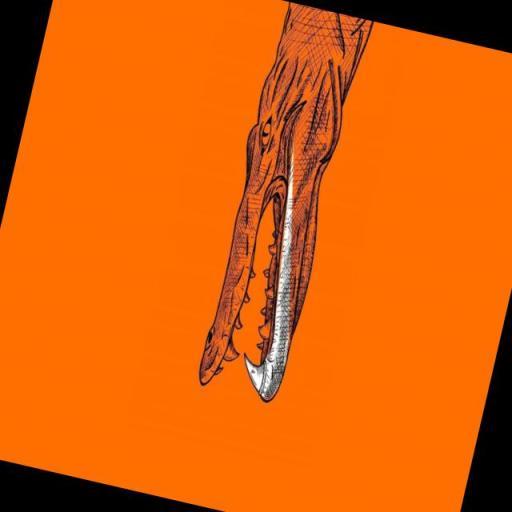Nike: (237, 146, 335, 400)
